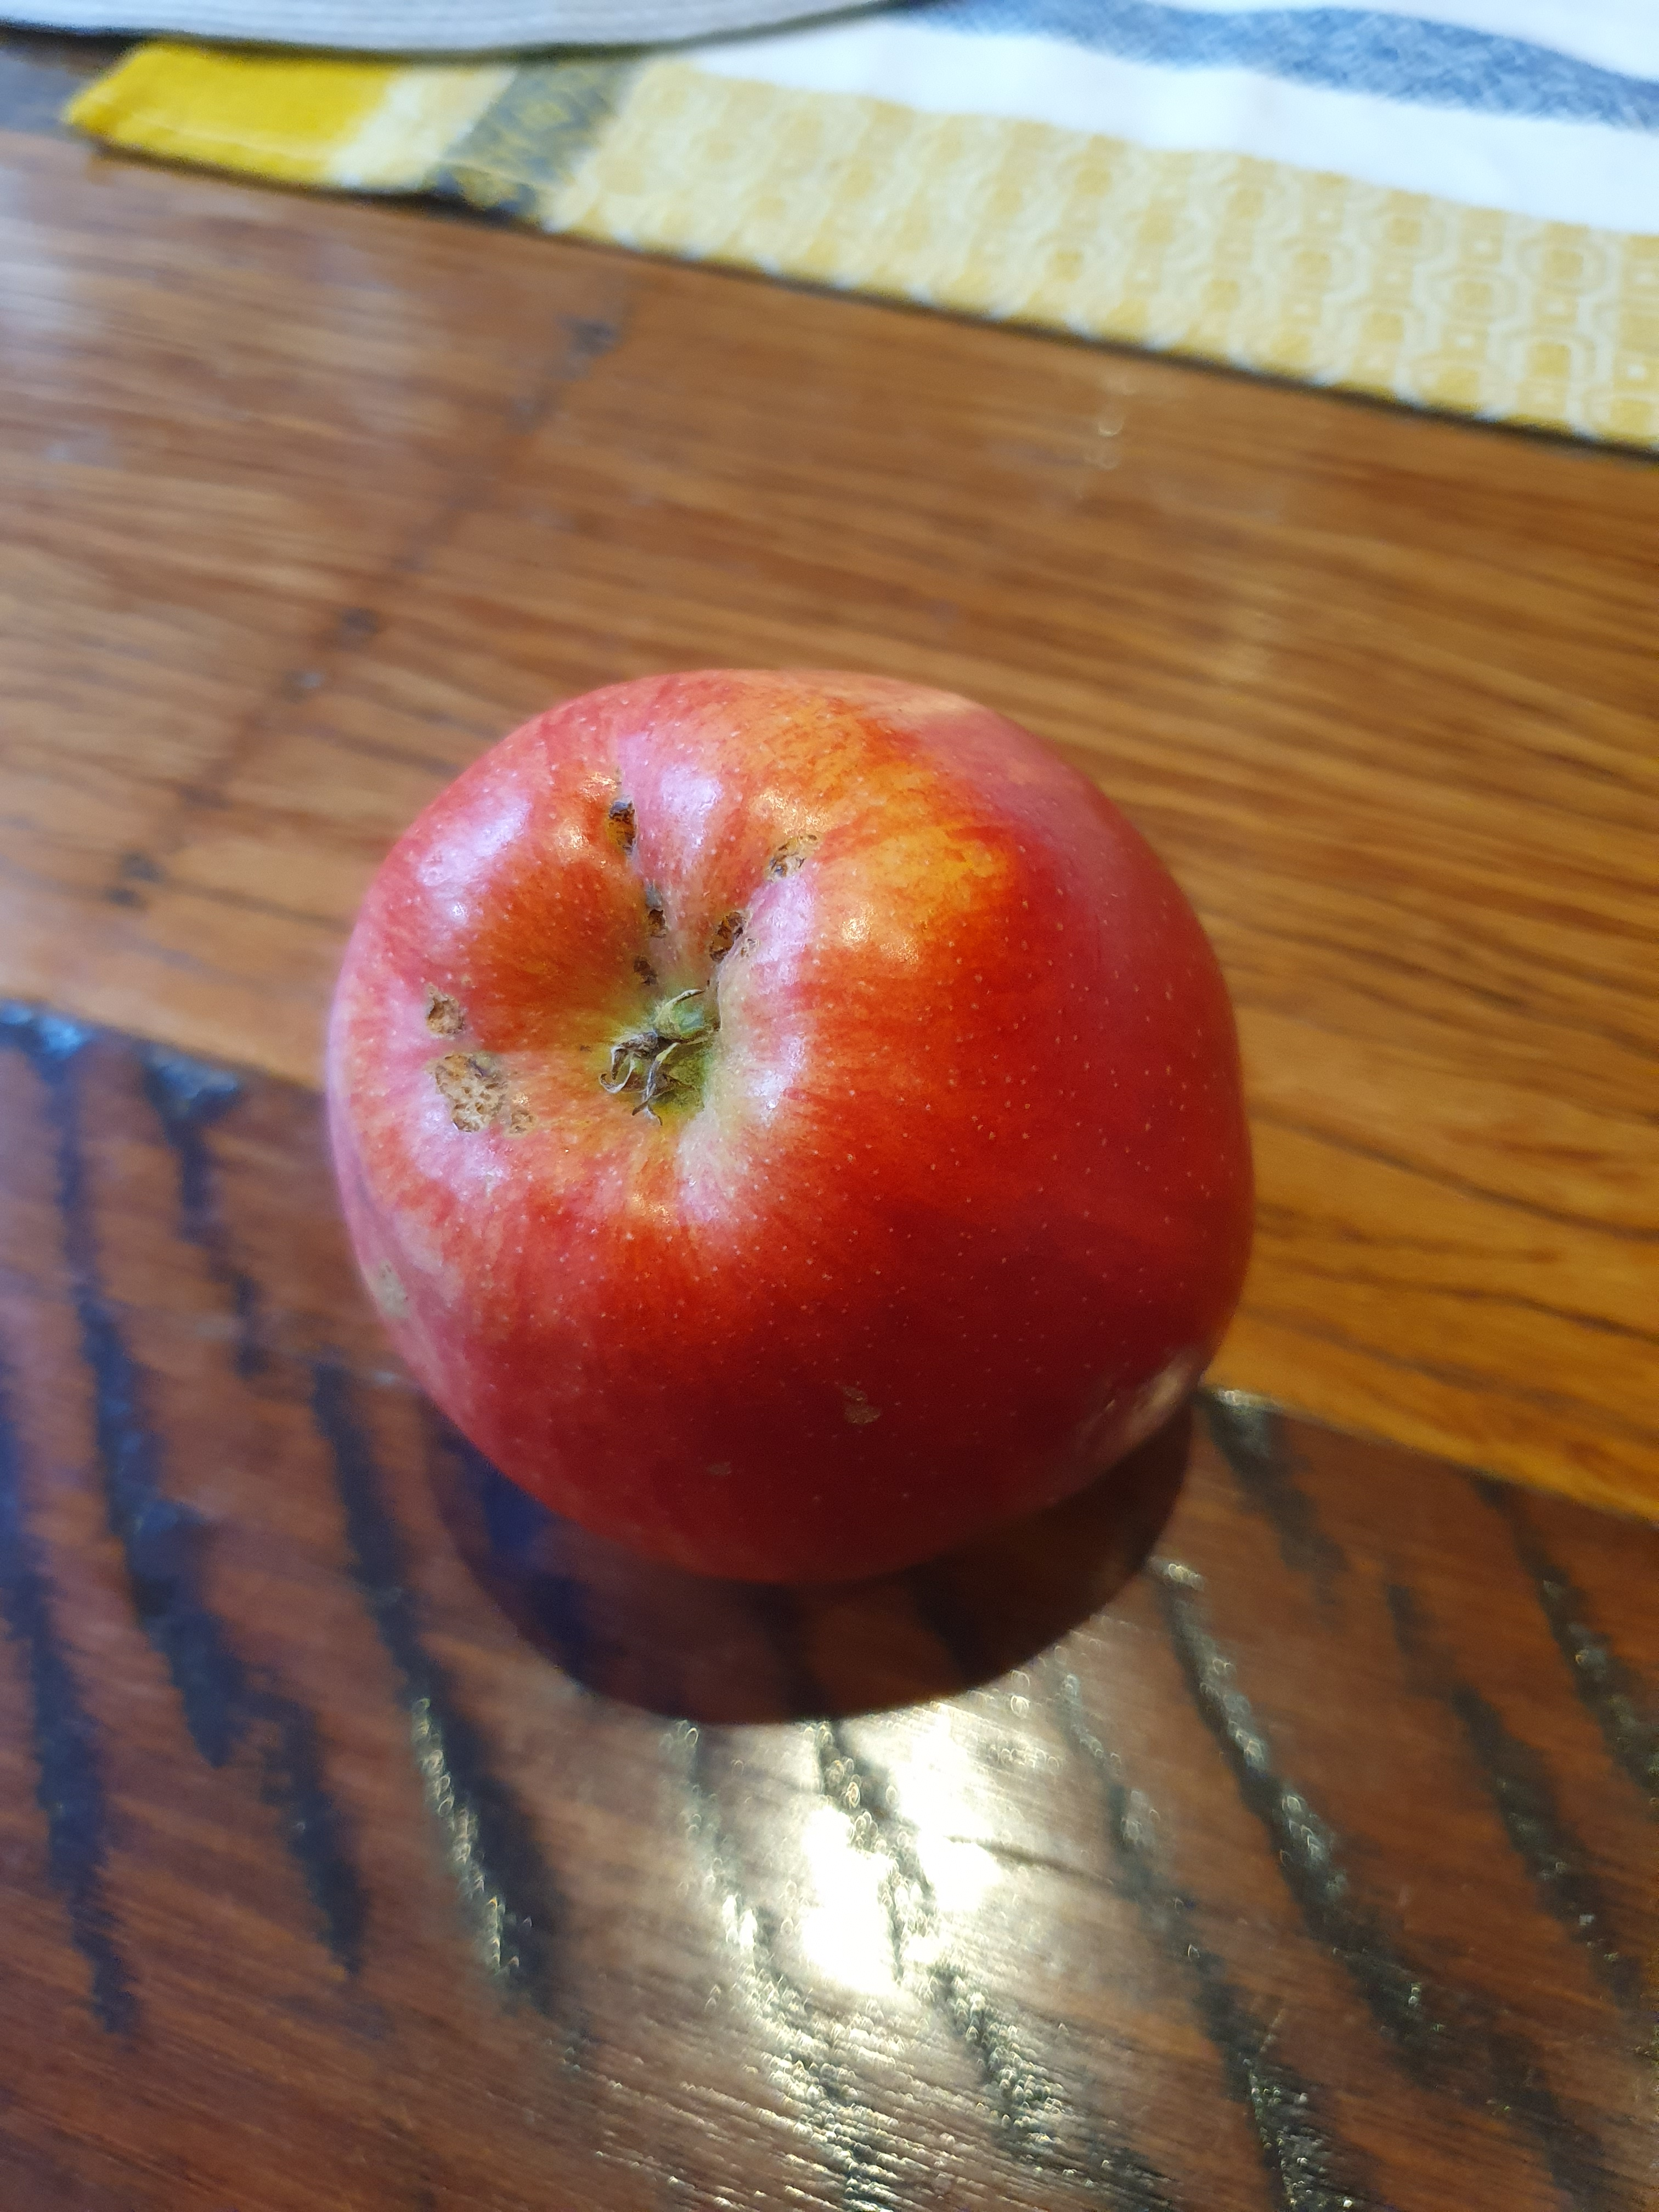red_apple: (305, 629, 1288, 1611)
